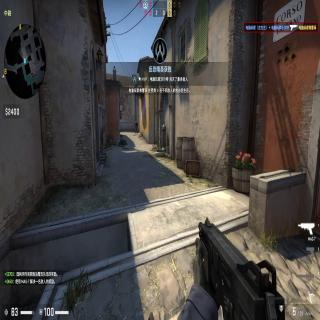T-Body: (134, 120, 138, 135)
T-Head: (135, 120, 137, 123)
